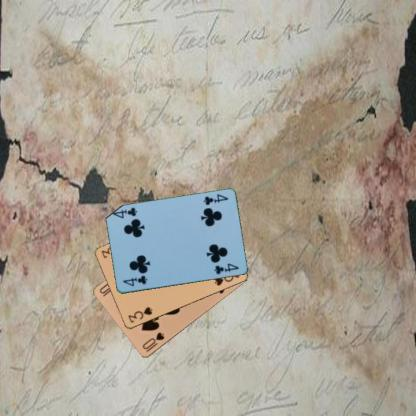10s: (140, 329, 166, 354)
3s: (125, 304, 154, 324)
4c: (120, 272, 149, 288), (201, 192, 230, 207)
